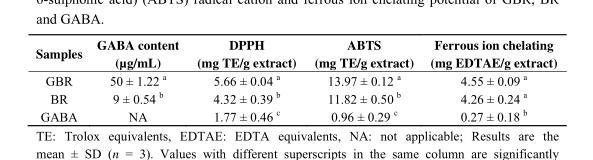table: (35, 35, 556, 123)
table column: (421, 35, 556, 123), (187, 35, 304, 123), (304, 35, 421, 123), (88, 35, 187, 123), (35, 35, 88, 123)
table column header: (35, 35, 556, 71)
table row: (35, 35, 556, 71), (35, 88, 556, 106), (35, 71, 556, 88), (35, 106, 556, 123)
